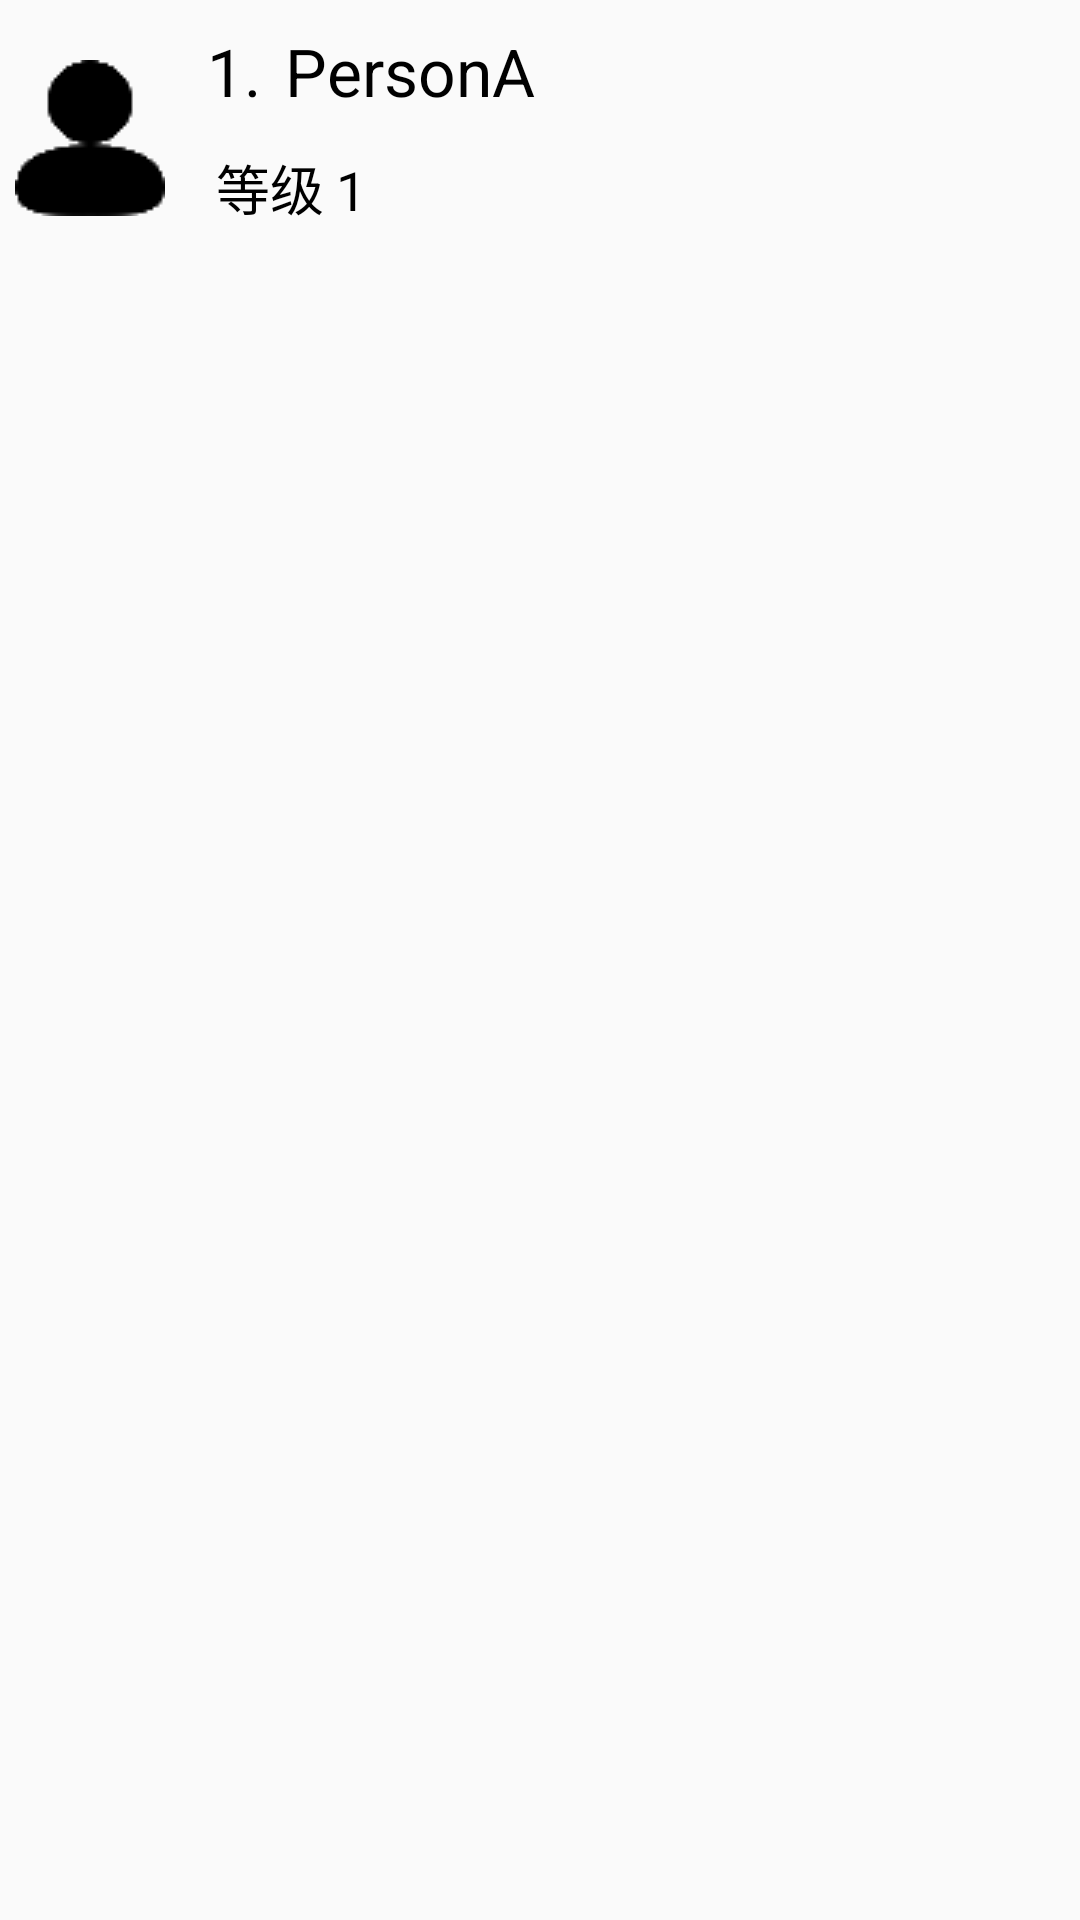

Screen size 1080w x 1920h. Icon name, then its box in pixels as [left=x1, top=y1, right=x2, bottom=y2]:
userinfo: [left=15, top=60, right=165, bottom=216]
